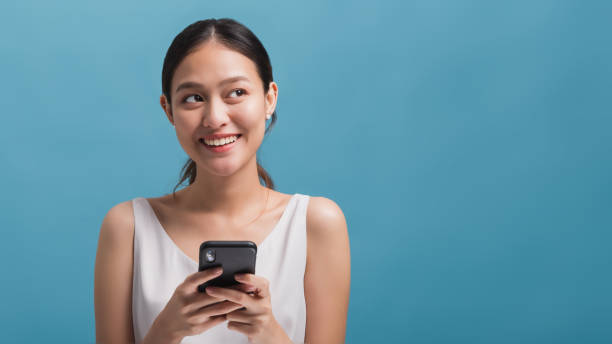face: (154, 11, 283, 186)
